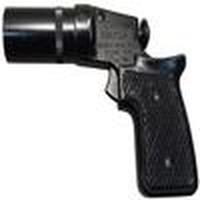gun: (3, 5, 200, 198)
